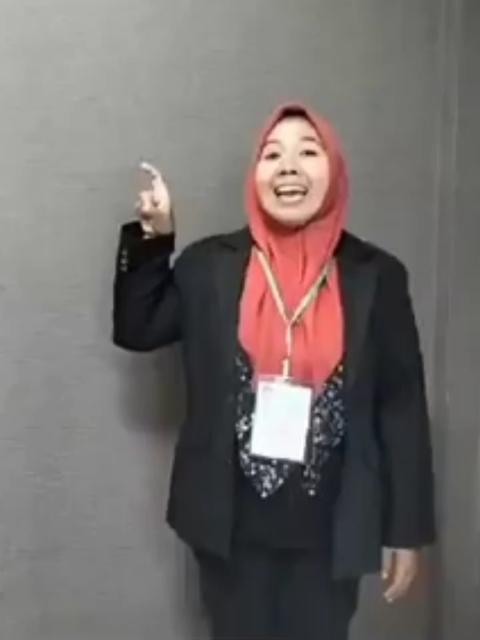X: (132, 156, 186, 240)
